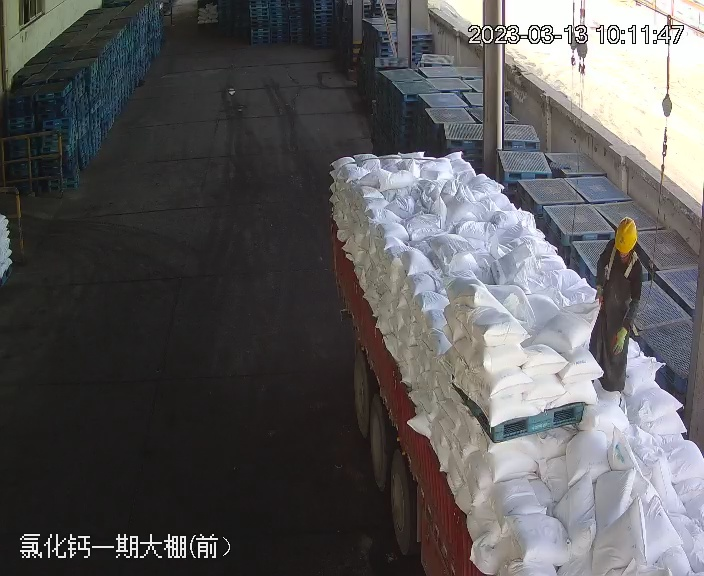belt: (607, 246, 641, 279)
head: (596, 215, 647, 275)
helmet: (613, 216, 639, 252)
people: (588, 216, 649, 396)
truck: (311, 149, 699, 574)
